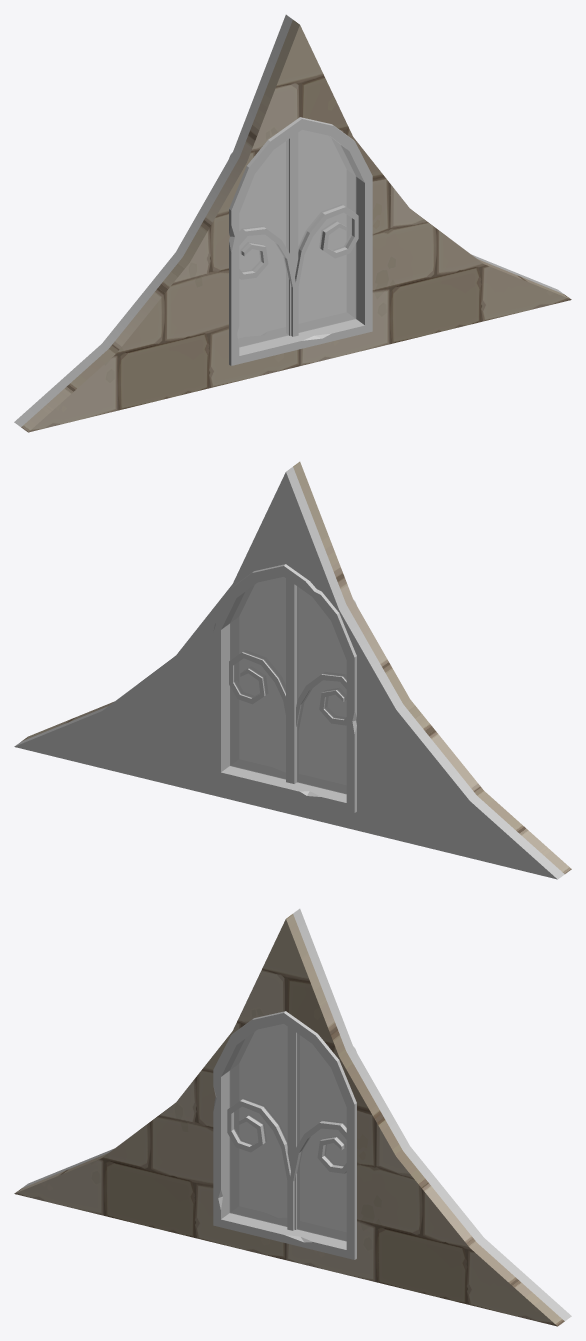
File: SM_Bld_Wall_End_Concave_Large_Window_01.fbx
The picture shows the model from 3 angles, top to bottom: view 1: azimuth 30°, elevation 25°; view 2: azimuth 150°, elevation 25°; view 3: azimuth 330°, elevation 25°; orthographic projection.
Visible parts, largest first — view 1: SM_Bld_Wall_End_Concave_Large_Window_01, SM_Bld_Wall_End_Concave_Large_Window_01_Glass; view 2: SM_Bld_Wall_End_Concave_Large_Window_01, SM_Bld_Wall_End_Concave_Large_Window_01_Glass; view 3: SM_Bld_Wall_End_Concave_Large_Window_01, SM_Bld_Wall_End_Concave_Large_Window_01_Glass.
Boxes of the visible parts, left/top/right/bottom form: SM_Bld_Wall_End_Concave_Large_Window_01: left=14, top=14, right=571, bottom=432; SM_Bld_Wall_End_Concave_Large_Window_01_Glass: left=237, top=130, right=356, bottom=347; SM_Bld_Wall_End_Concave_Large_Window_01: left=14, top=461, right=571, bottom=879; SM_Bld_Wall_End_Concave_Large_Window_01_Glass: left=230, top=577, right=346, bottom=794; SM_Bld_Wall_End_Concave_Large_Window_01: left=14, top=908, right=571, bottom=1326; SM_Bld_Wall_End_Concave_Large_Window_01_Glass: left=229, top=1024, right=346, bottom=1241.
Bounding box in the file's own units: 500 × 300 × 29.02.
